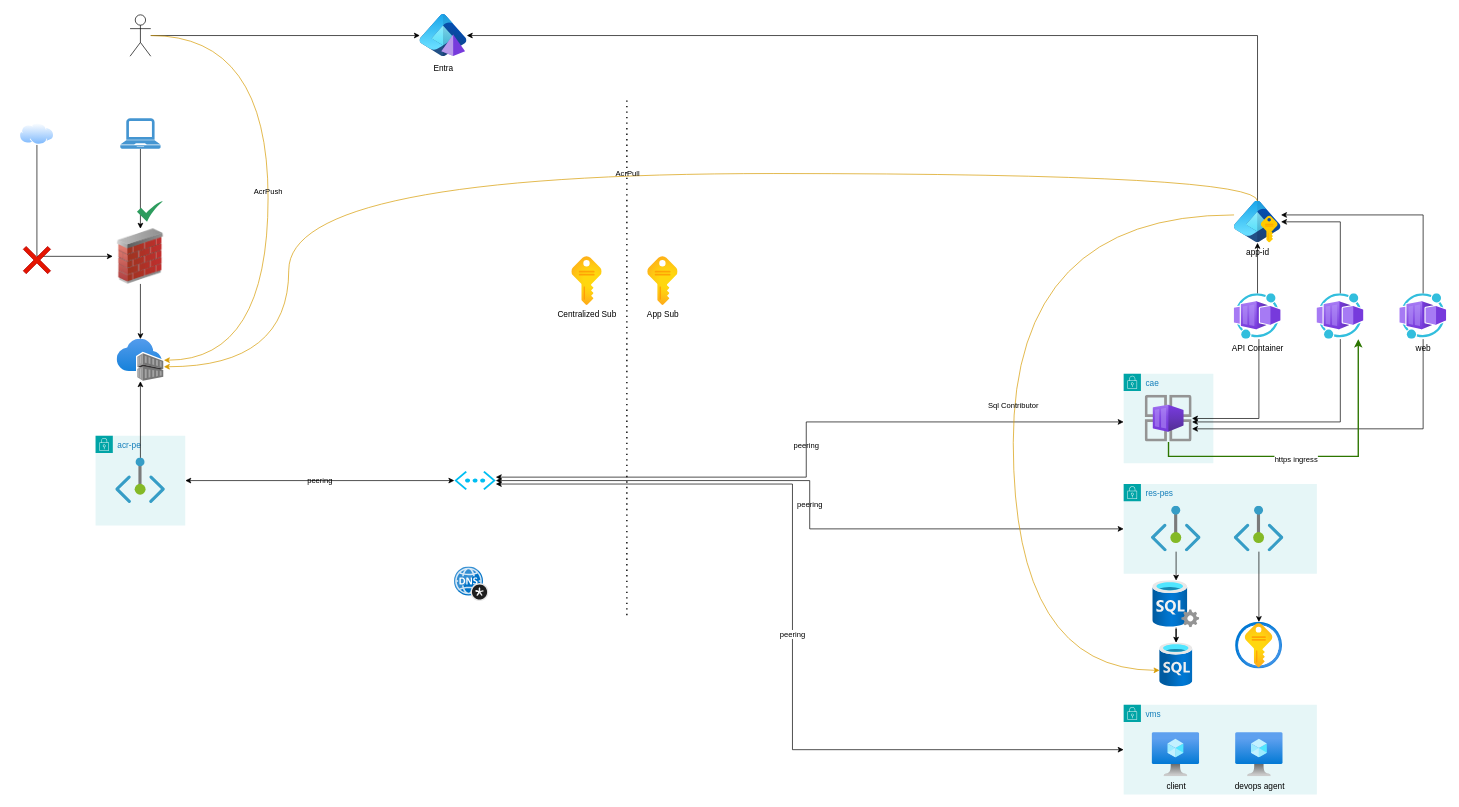
Some shapes in this 1459 by 807 pixel diagram are drawn without their labels. Each missing label, with the centre of its shape:
DEV: (140,35)
Ingress: (1340,316)
vault privatedns sql server privatedns acr privatedns: (471,583)
